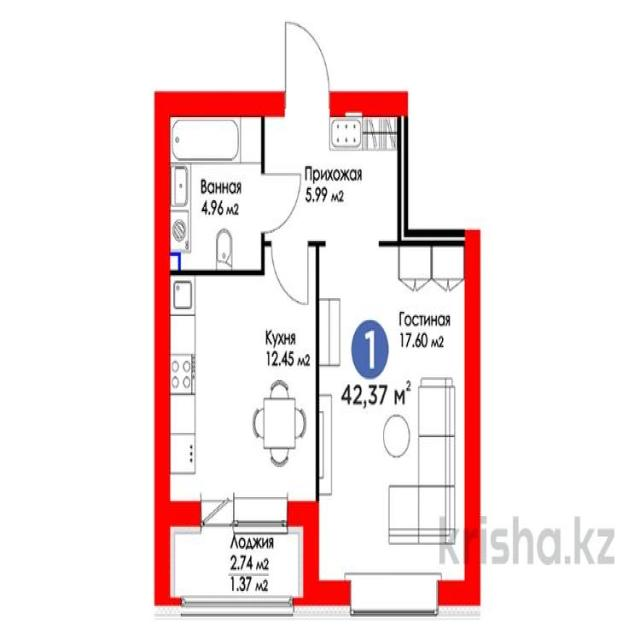balcony: (159, 512, 317, 604)
bathroom: (160, 101, 264, 272)
hallway: (263, 98, 407, 246)
kitchen: (158, 268, 314, 520)
living_room: (316, 239, 476, 608)
